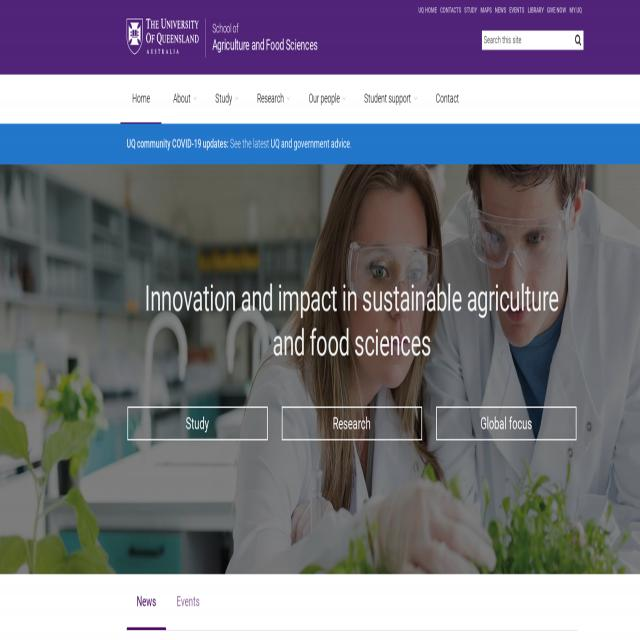button: (127, 406, 267, 440), (282, 406, 422, 440), (437, 406, 576, 440), (352, 75, 424, 123), (297, 75, 353, 123), (126, 19, 198, 56), (245, 75, 297, 123), (424, 75, 471, 123), (203, 75, 246, 123), (120, 75, 162, 123), (162, 75, 204, 123), (166, 583, 210, 621), (126, 583, 166, 621), (573, 30, 583, 50)
field: (482, 30, 572, 50)
